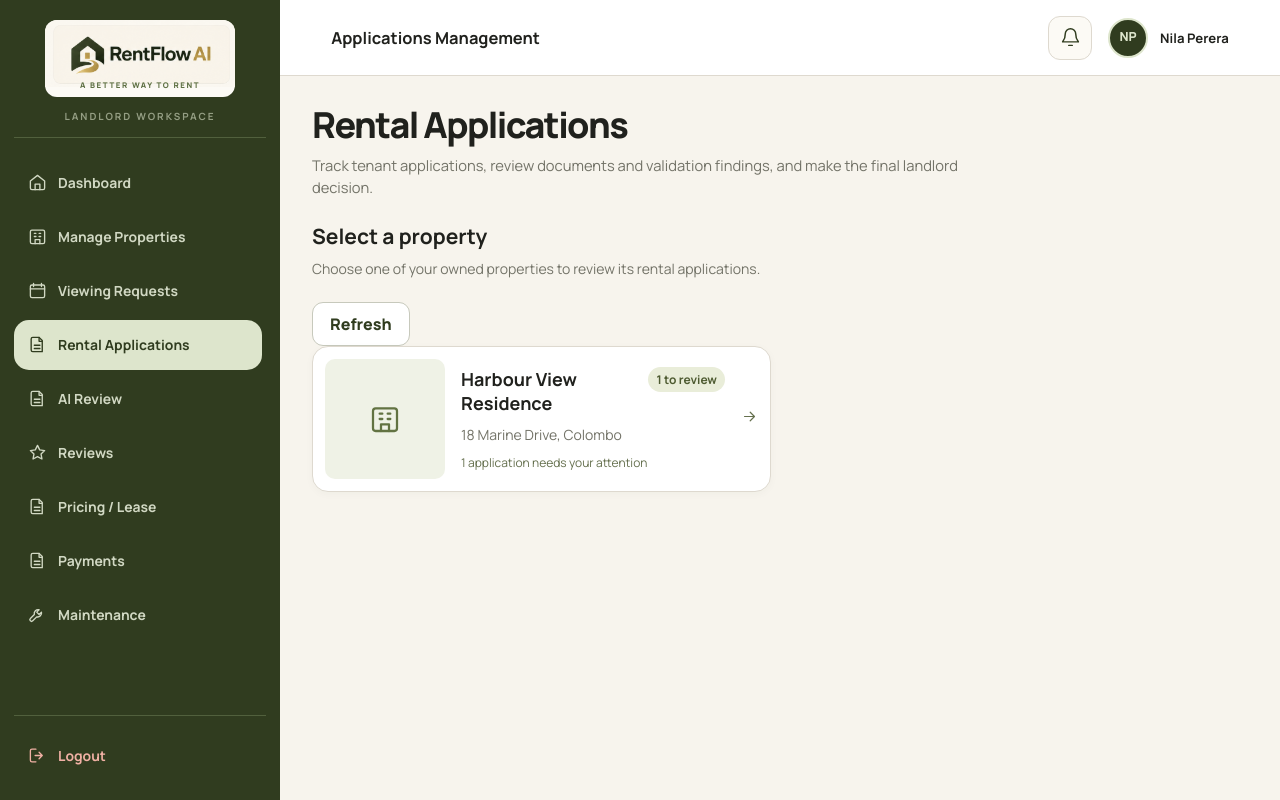
Test: owned property landlord workflow integration › loads one authenticated application summary and opens the exact existing rental workspace
The image size is (1280, 800).
Click the button with aria-label "Harbour View Residence, 1 rental application needs attention": (385, 419) [312,346,771,492]
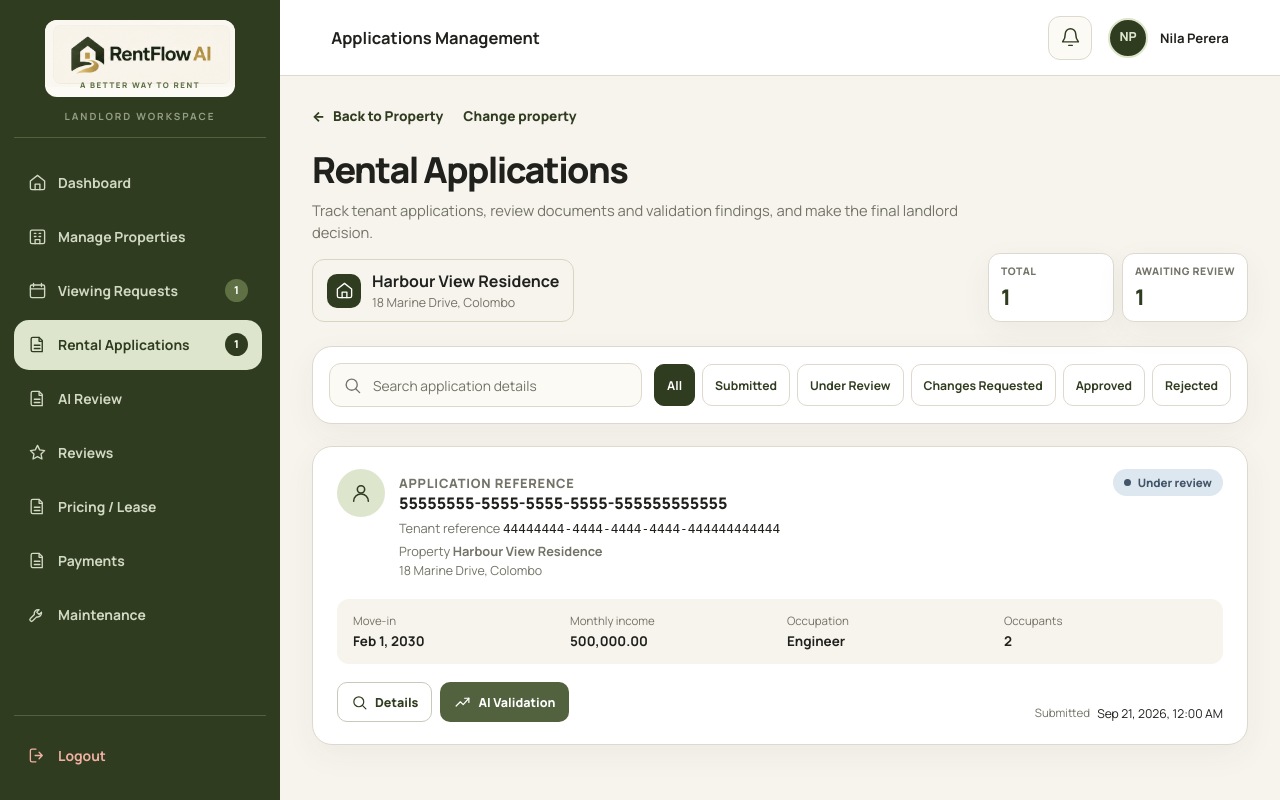
Result: the element named "Rental applications" is shown at [312,446,1248,745]
Result: the element named "Selected property" shows "Harbour View Residence" at [372,270,559,292]
